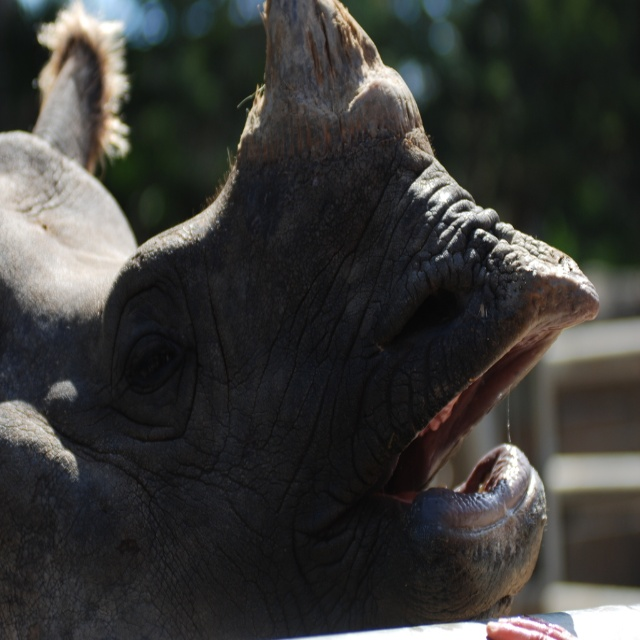Rhinoceros: (0, 0, 604, 639)
